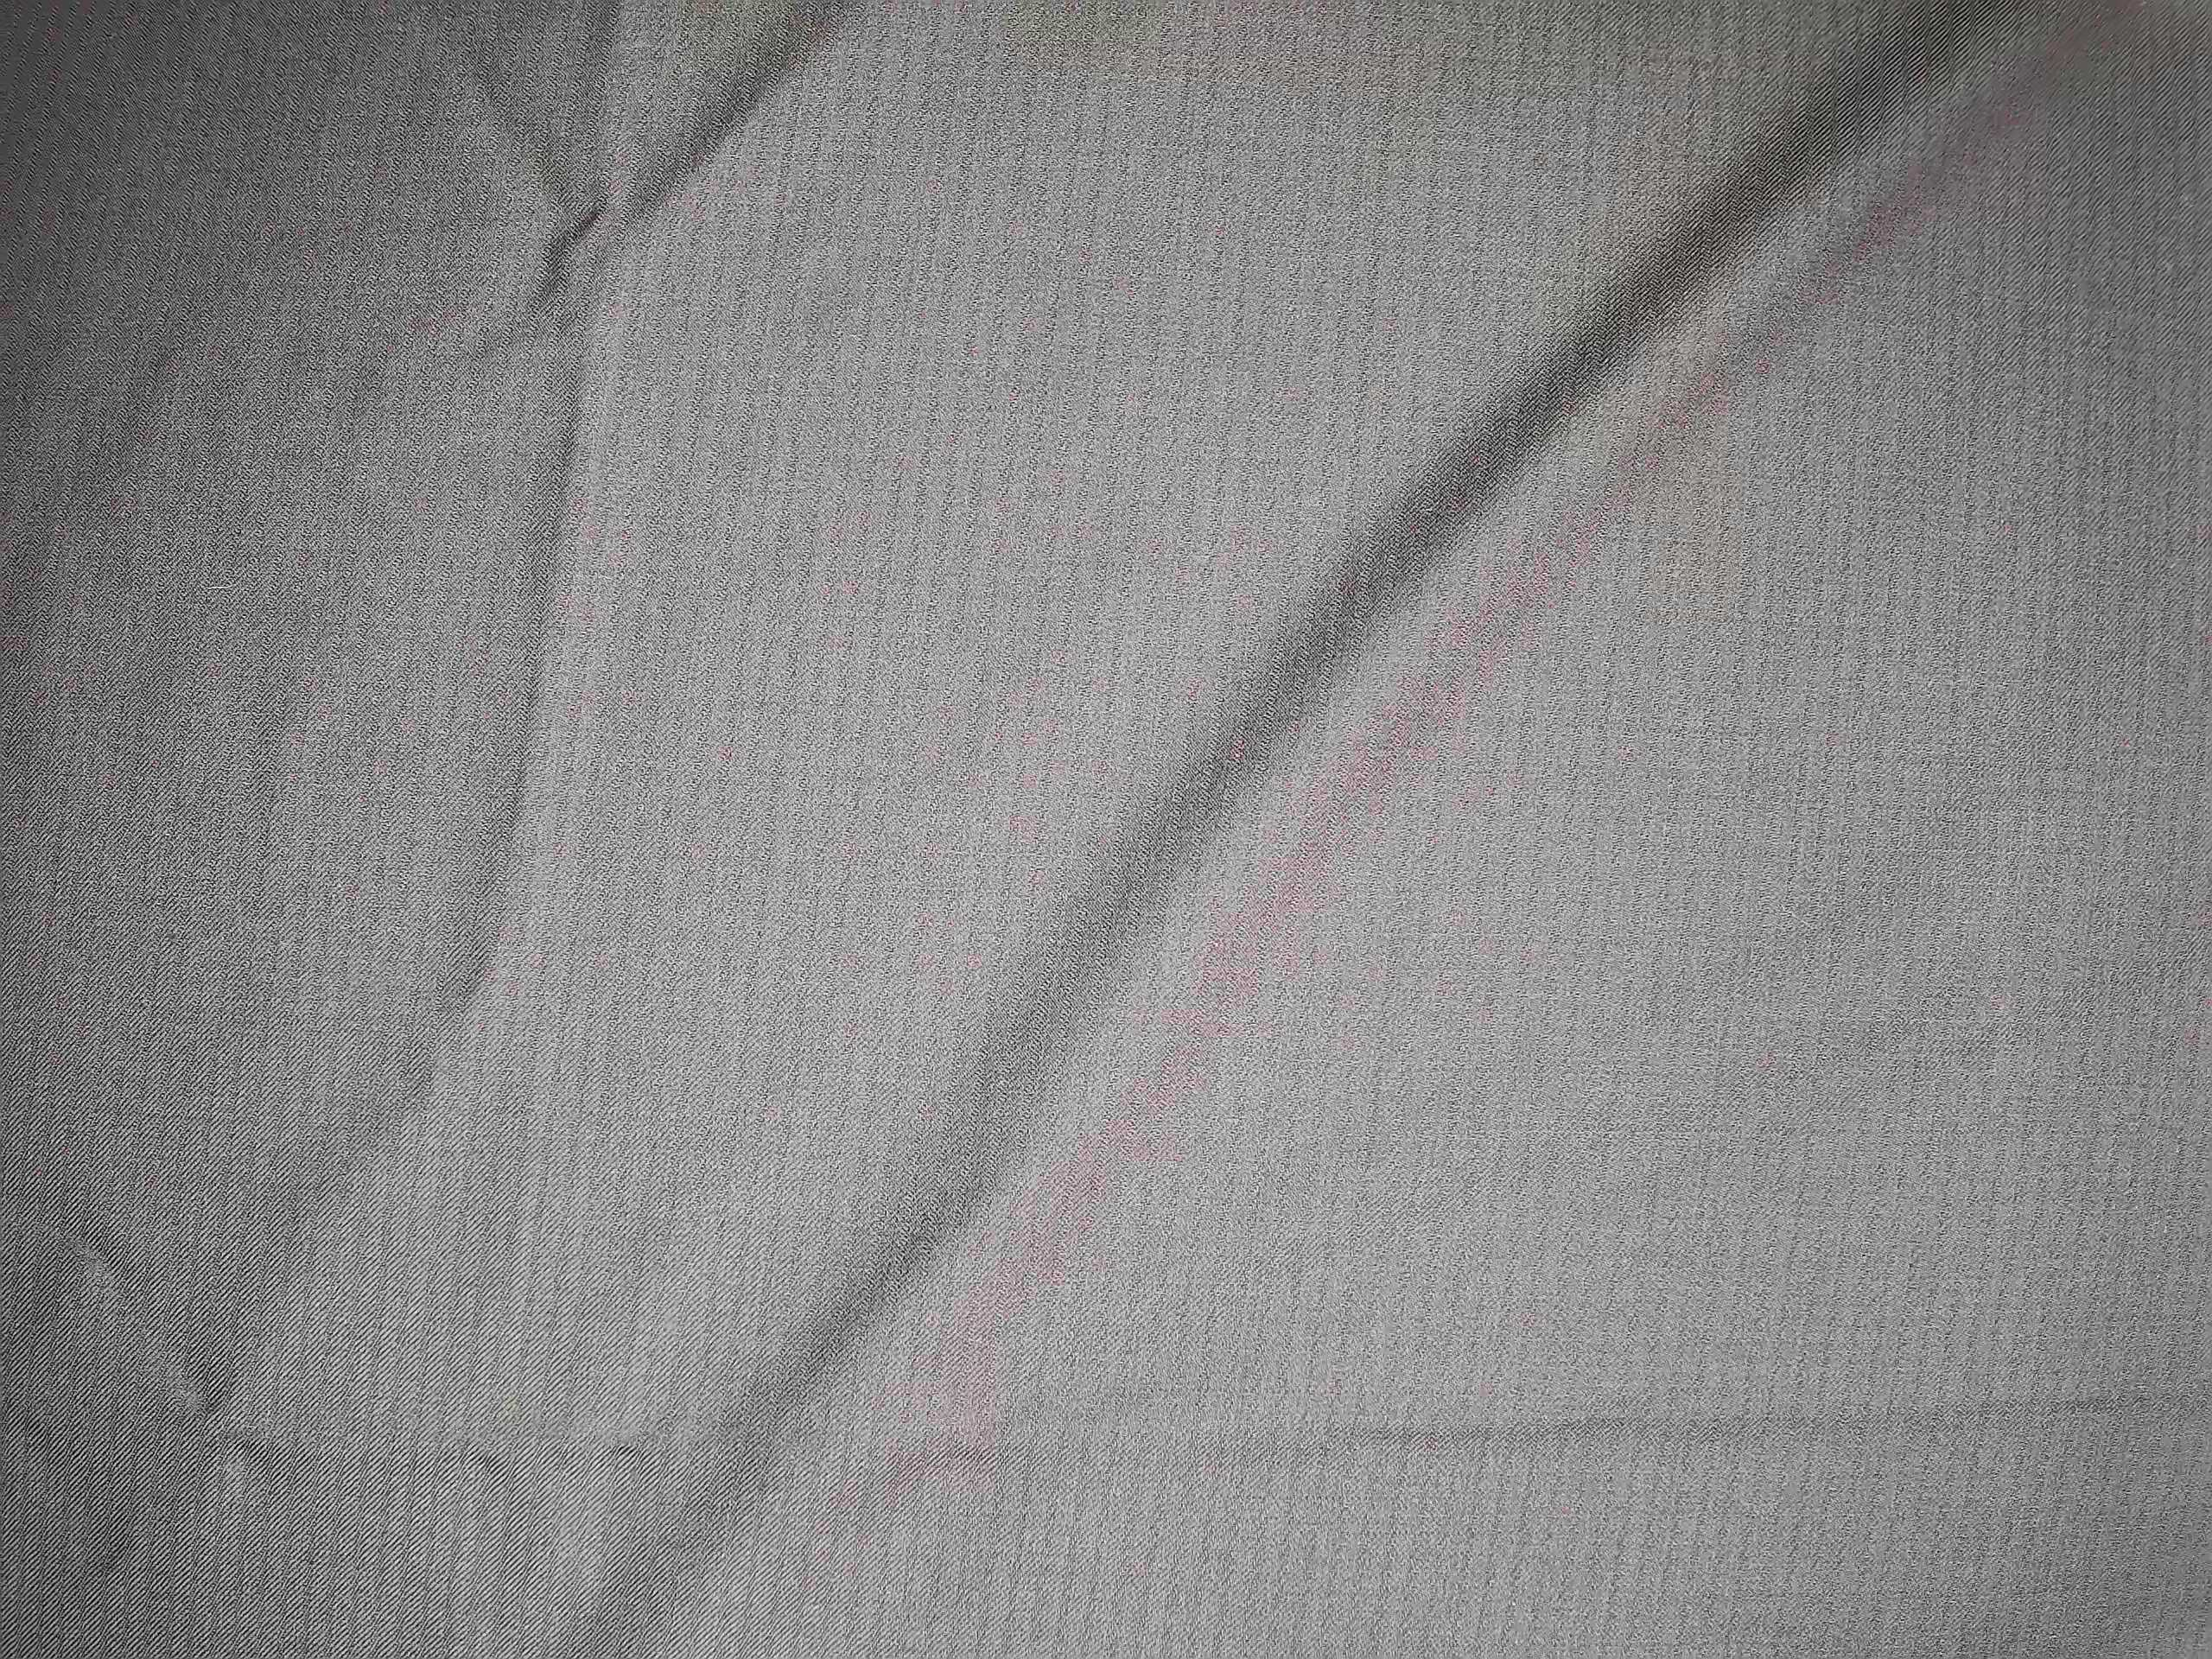others: (1183, 1391, 2196, 1457)
